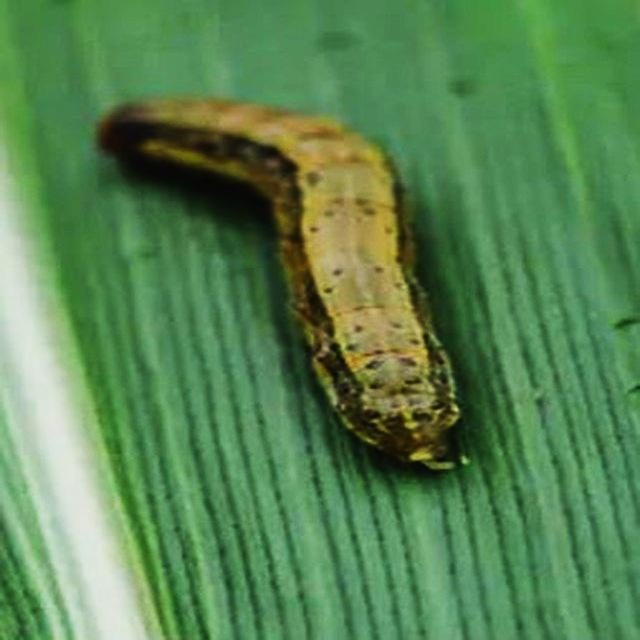gusano_cogollero: (91, 93, 472, 478)
